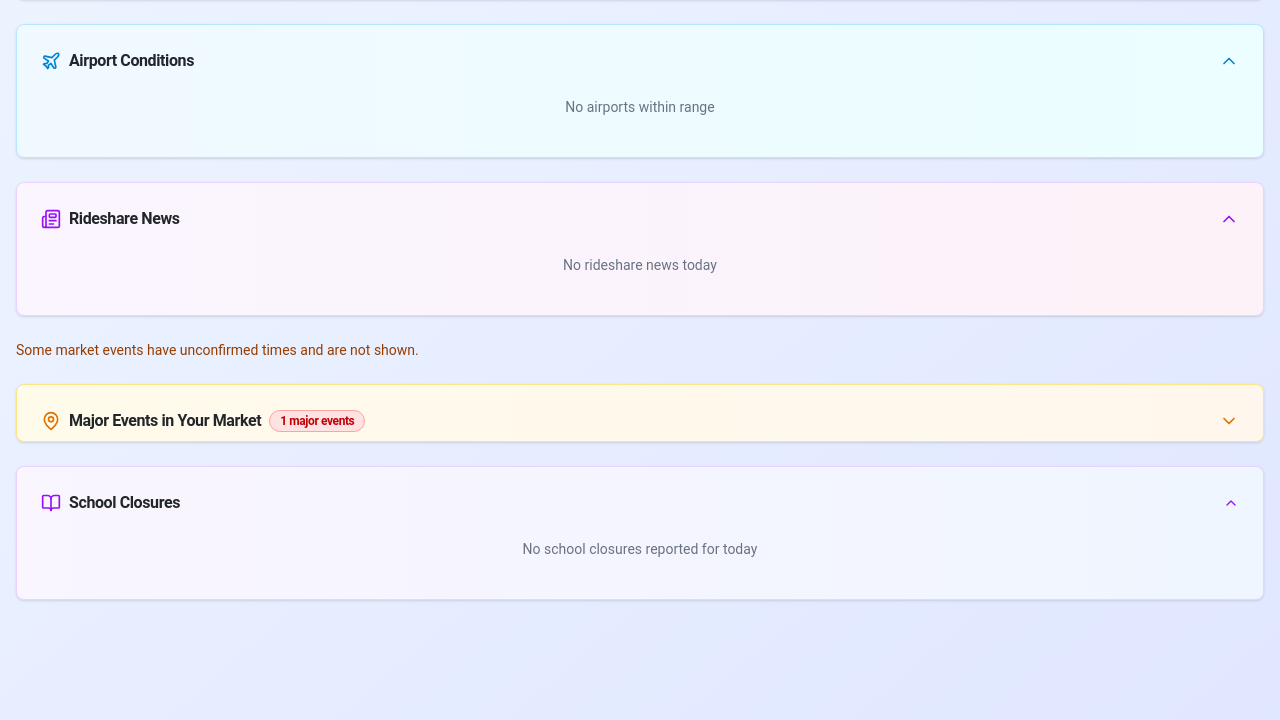
Scenario: preserves a venue event across display midnight and surfaces missing market coverage
This screenshot has width=1280, height=720.
(page scrolled)
Expected: the text "Some market events have unconfirmed times and are not shown." is shown, [16,342,419,358]
Click the text "Major Events in Your Market" at (165, 421), box [69,409,261,433]
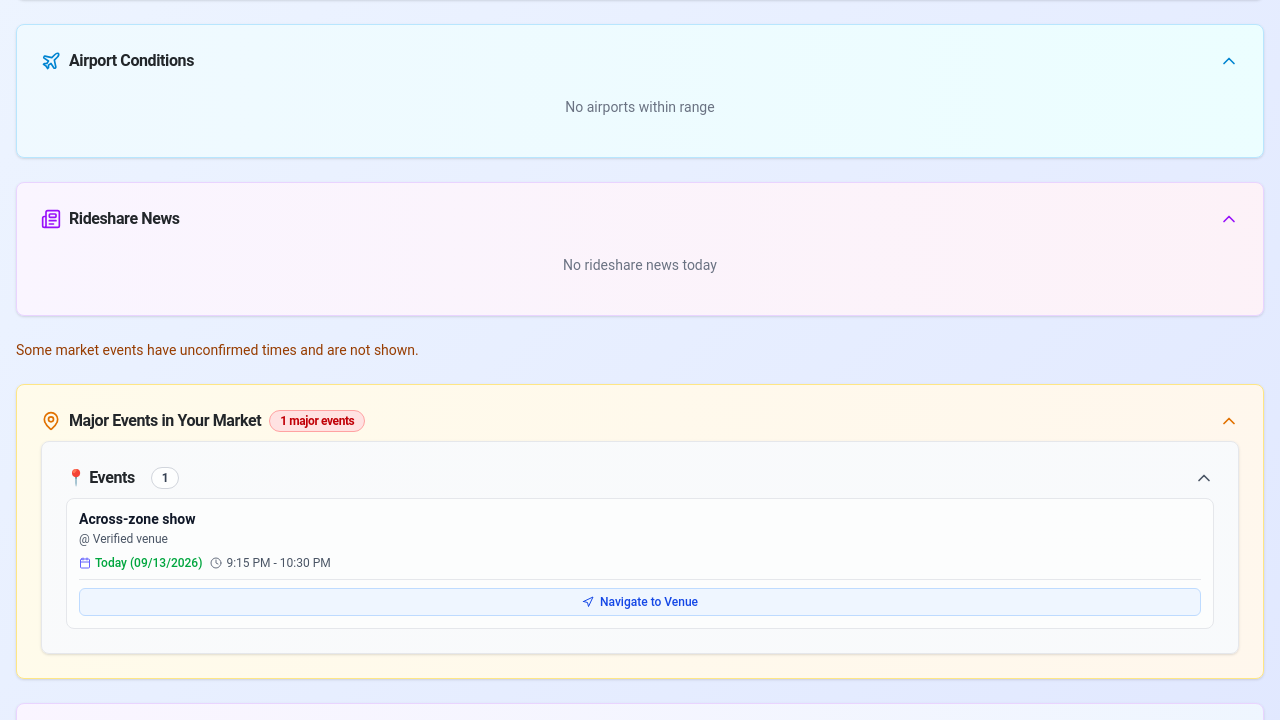
Result: the heading "Across-zone show" is shown at [79,511,196,527]
